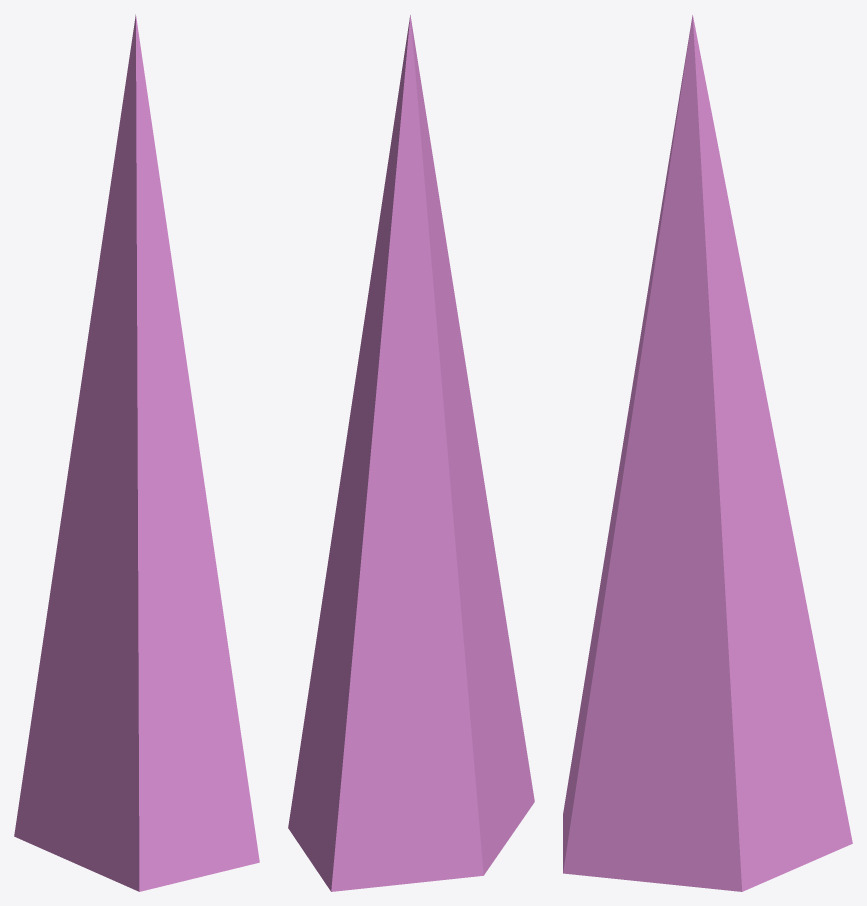
File: hostile_shard_03.glb
3 renders of one model, left to right at view 1: azimuth 30°, elevation 25°; view 2: azimuth 150°, elevation 25°; view 3: azimuth 270°, elevation 25°, orthographic.
Visible parts, largest first — view 1: hostile_shard_03; view 2: hostile_shard_03; view 3: hostile_shard_03.
Part boxes in pixels (x1,y1,x2,y2): hostile_shard_03: (14,14,259,891); hostile_shard_03: (288,15,534,891); hostile_shard_03: (563,15,852,891).
Size of the model in its own units: 0.1498 by 0.6025 by 0.1899.
